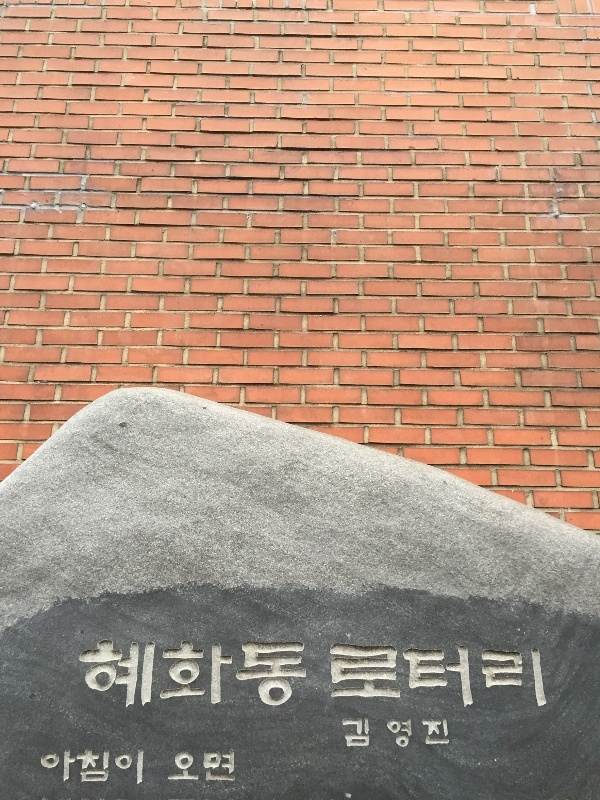text: (81, 638, 96, 711), (97, 638, 112, 711), (113, 638, 128, 711), (129, 638, 144, 711), (145, 638, 160, 711), (161, 638, 176, 711), (177, 638, 192, 711), (193, 638, 208, 711), (209, 638, 224, 711), (225, 638, 240, 711), (241, 638, 256, 711), (257, 638, 272, 711), (273, 638, 288, 711), (289, 638, 304, 711), (337, 645, 352, 711), (353, 645, 368, 711), (369, 645, 384, 711), (385, 645, 400, 711), (401, 645, 416, 711), (417, 645, 432, 711), (433, 645, 448, 711), (449, 645, 464, 711), (465, 645, 480, 711), (481, 645, 496, 711), (497, 645, 512, 711), (513, 645, 528, 711), (529, 645, 544, 711), (49, 751, 64, 786), (65, 751, 80, 786), (81, 751, 96, 786), (97, 751, 112, 786), (113, 751, 128, 786), (129, 751, 144, 786), (353, 719, 368, 753), (369, 719, 384, 753), (385, 719, 400, 753), (401, 719, 416, 753), (417, 719, 432, 753), (433, 719, 448, 753), (177, 750, 192, 783), (193, 750, 208, 783), (209, 750, 224, 783), (329, 645, 336, 711), (342, 719, 352, 753), (225, 750, 235, 783), (167, 750, 176, 783), (40, 751, 48, 786), (545, 645, 548, 711), (305, 638, 307, 711), (449, 719, 451, 753)
